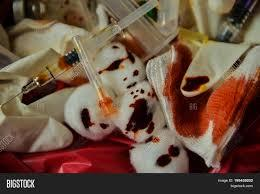Syringe: (0, 50, 78, 106)
cotton: (148, 42, 259, 167), (114, 81, 165, 141), (94, 43, 145, 94), (130, 128, 188, 172), (208, 0, 235, 13), (109, 92, 112, 96)
